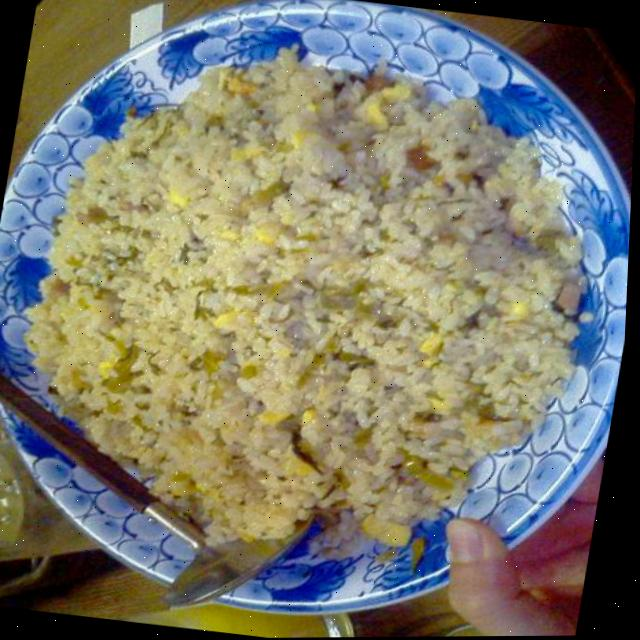米饭主食: (0, 19, 613, 640)
